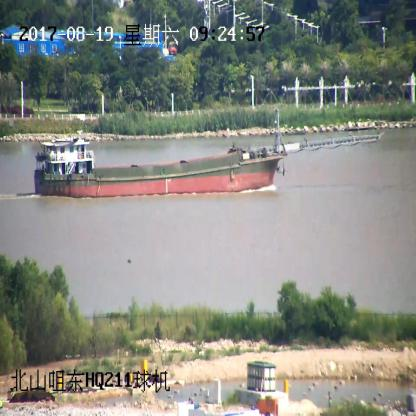Bulk Carrier: (34, 104, 380, 200)
